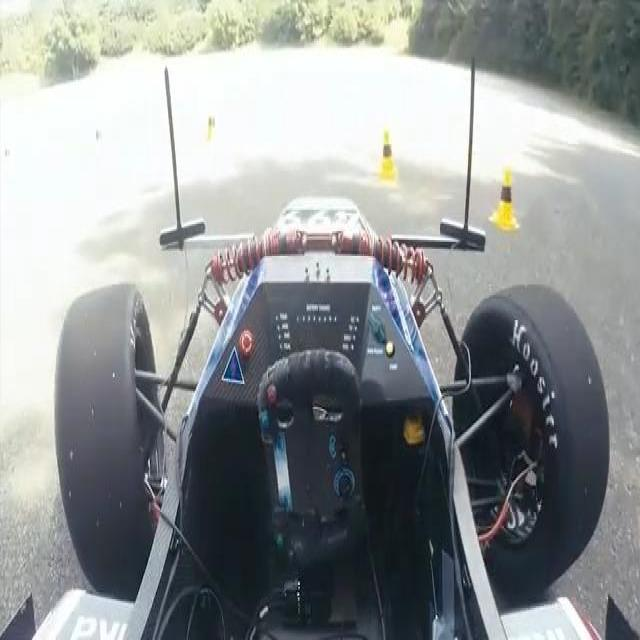yellow_cone: (489, 160, 518, 230), (375, 126, 398, 183), (92, 126, 112, 182), (4, 146, 19, 198), (205, 108, 221, 156)
